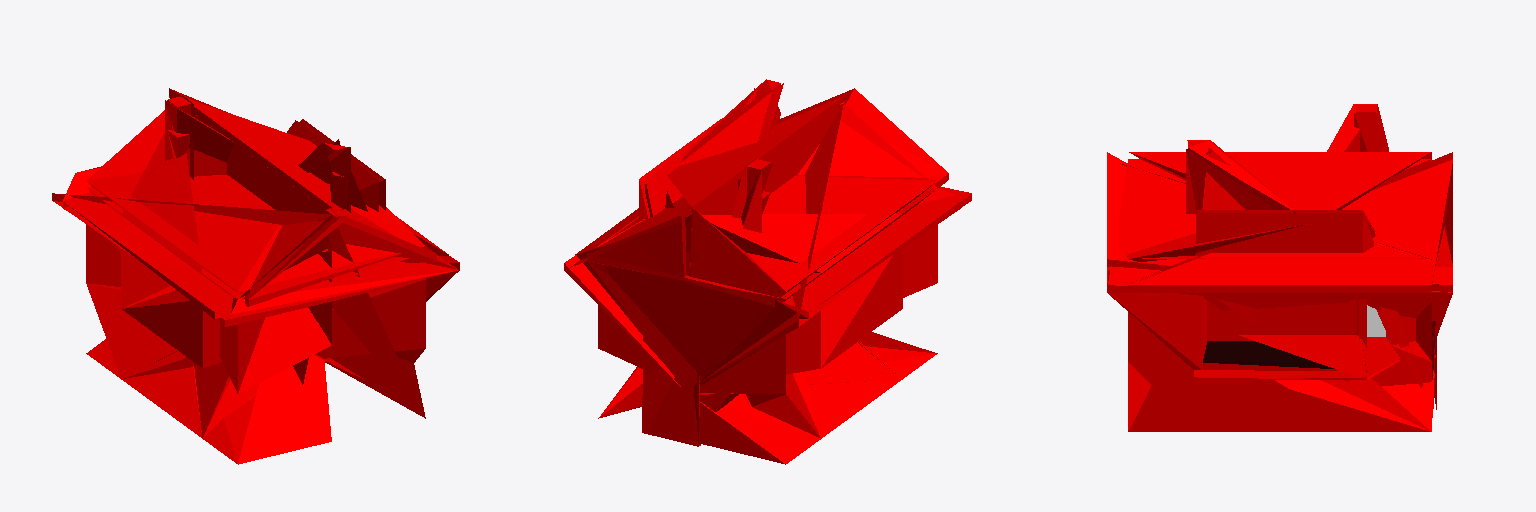
Rendered from Bakery.obj.
The picture shows the model from 3 angles: view 1: azimuth 30°, elevation 25°; view 2: azimuth 150°, elevation 25°; view 3: azimuth 270°, elevation 25°; orthographic projection.
Visible parts, largest first — view 1: Text002; view 2: Text002; view 3: Text002, Box20194.
Part boxes in pixels (x1,y1,x2,y2): Text002: (52, 88, 459, 464); Text002: (564, 79, 971, 464); Text002: (1107, 104, 1452, 431); Box20194: (1203, 341, 1333, 368).
Bounding box in the file's own units: 6779 × 7244 × 8672.